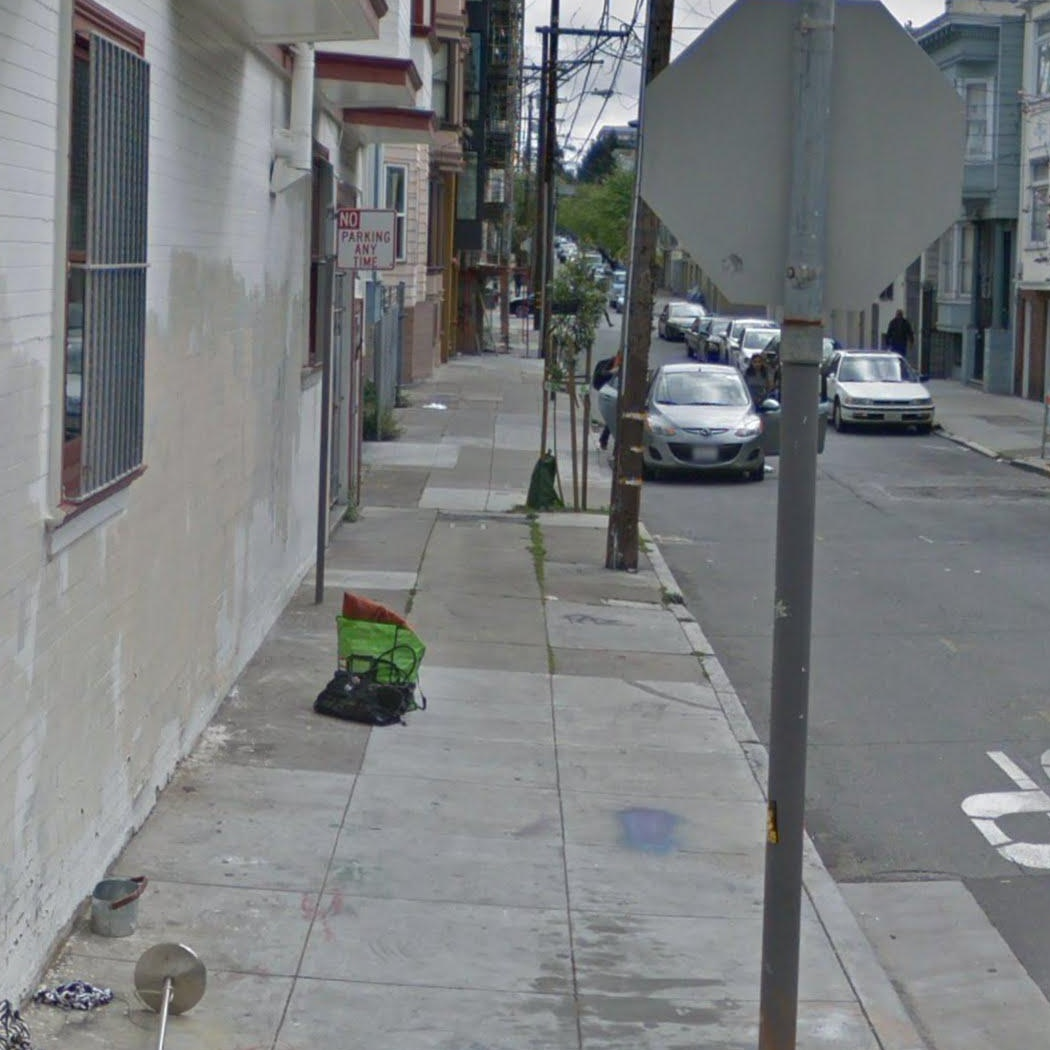No Parking Anytime: (336, 208, 397, 271)
